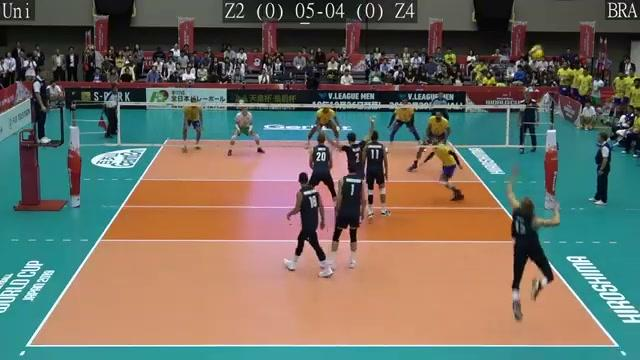ball: (526, 44, 545, 62)
